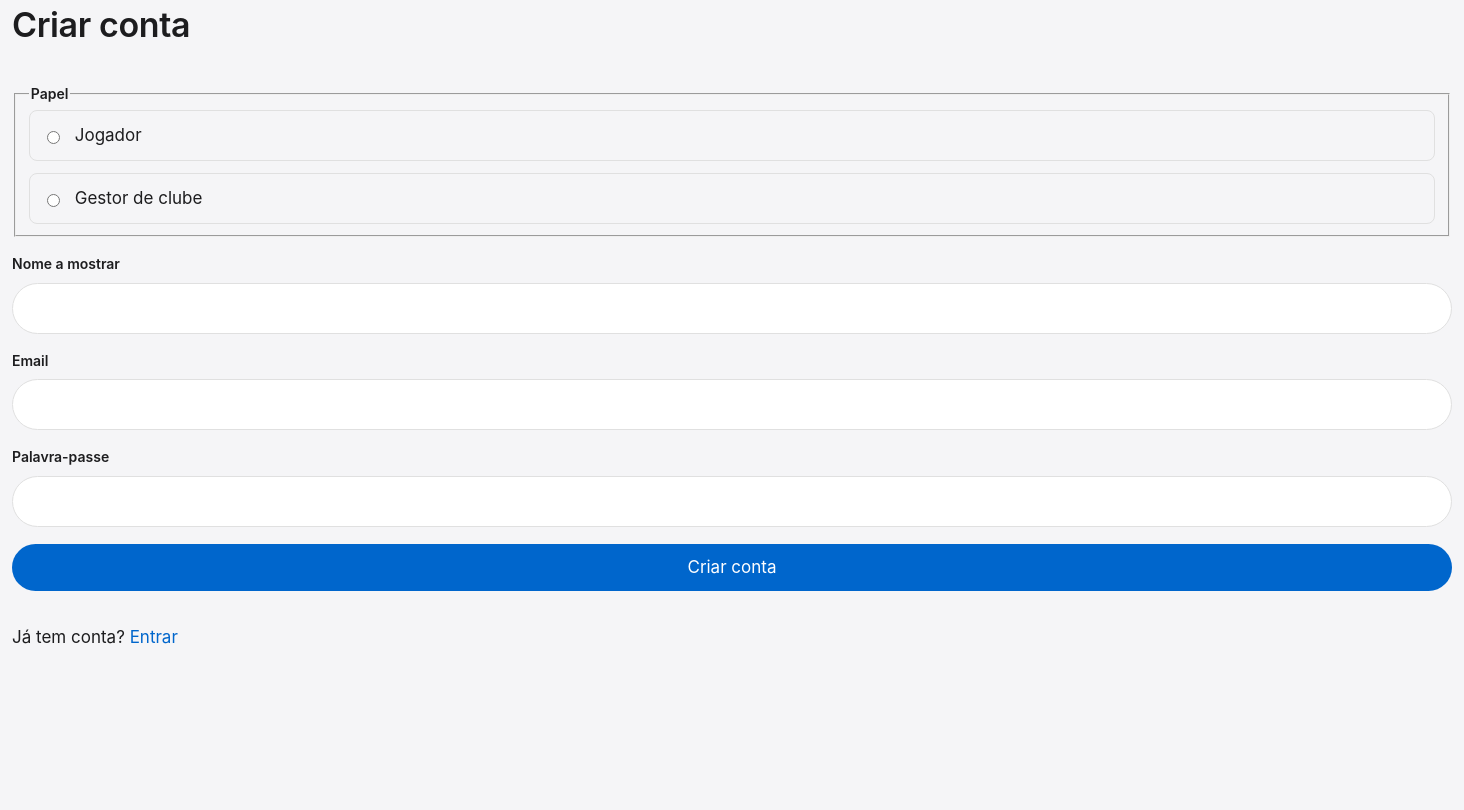
Test: RegisterForm › rejects submission without role selected
Type "Ana" into the field labelled "Nome a mostrar" at (732, 308), box [12, 283, 1452, 334]
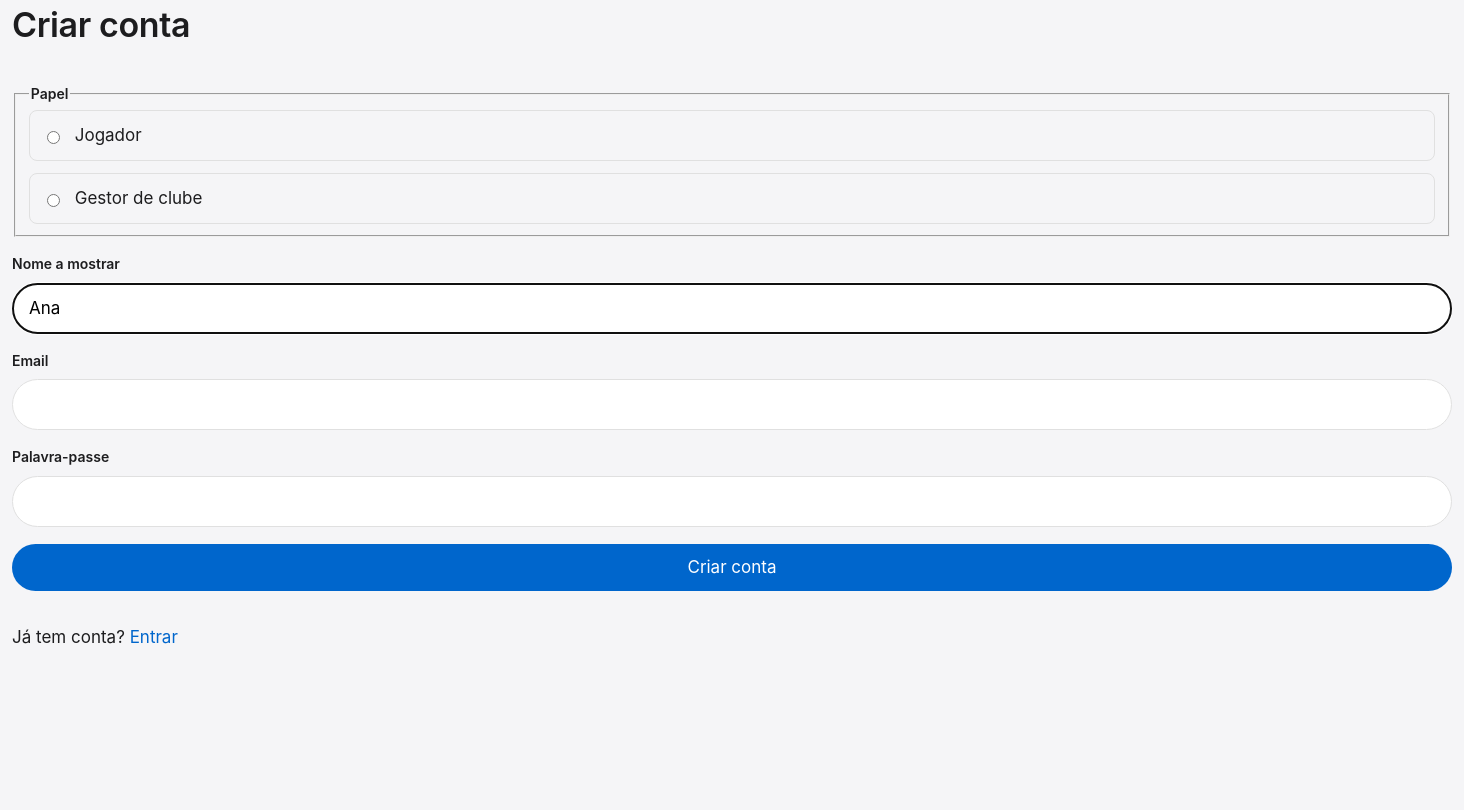
Type "ana@test.com" into the field labelled "Email" at (732, 405), box [12, 379, 1452, 430]
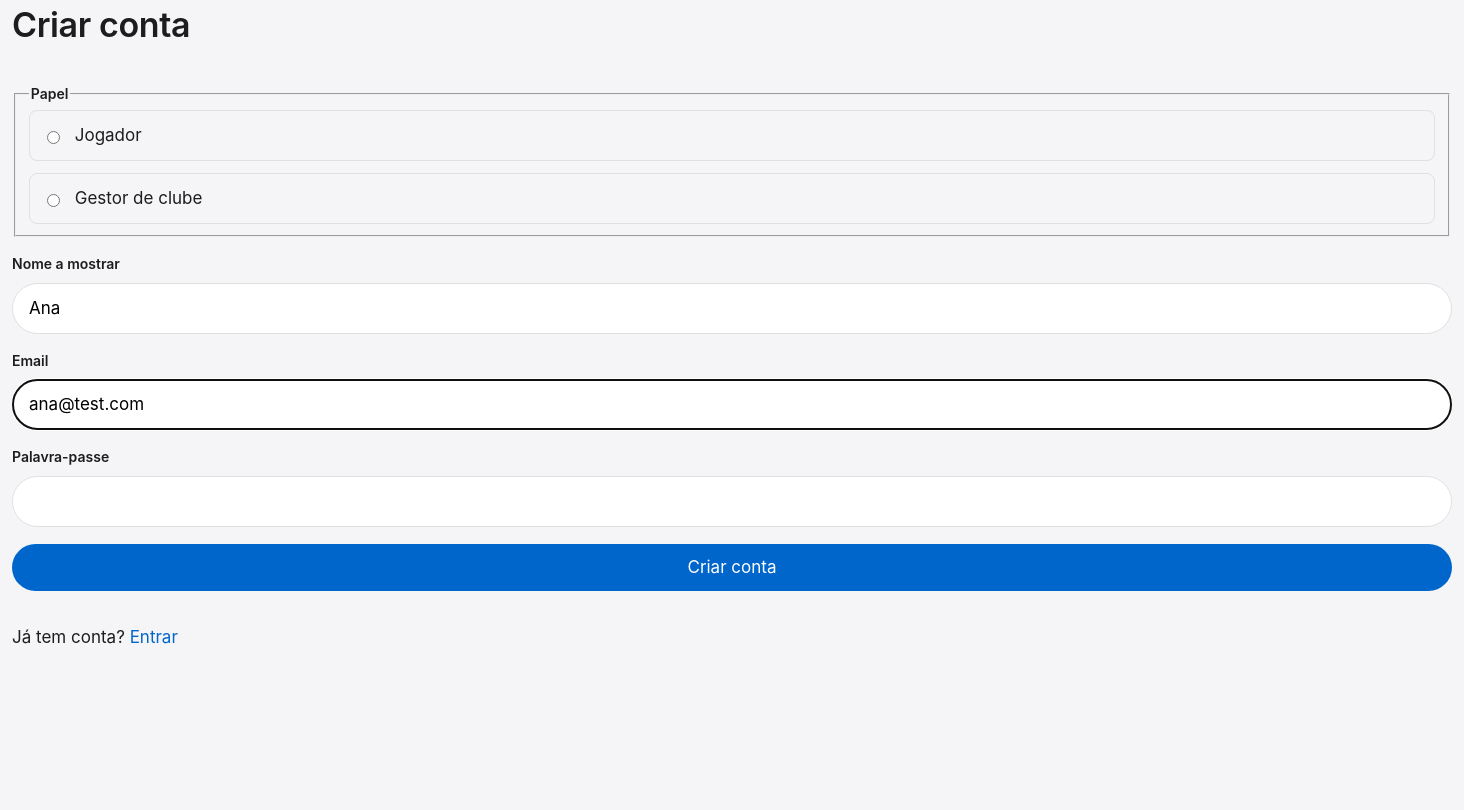
Type "password12" into the password field labelled "Palavra-passe" at (732, 501), box [12, 476, 1452, 527]
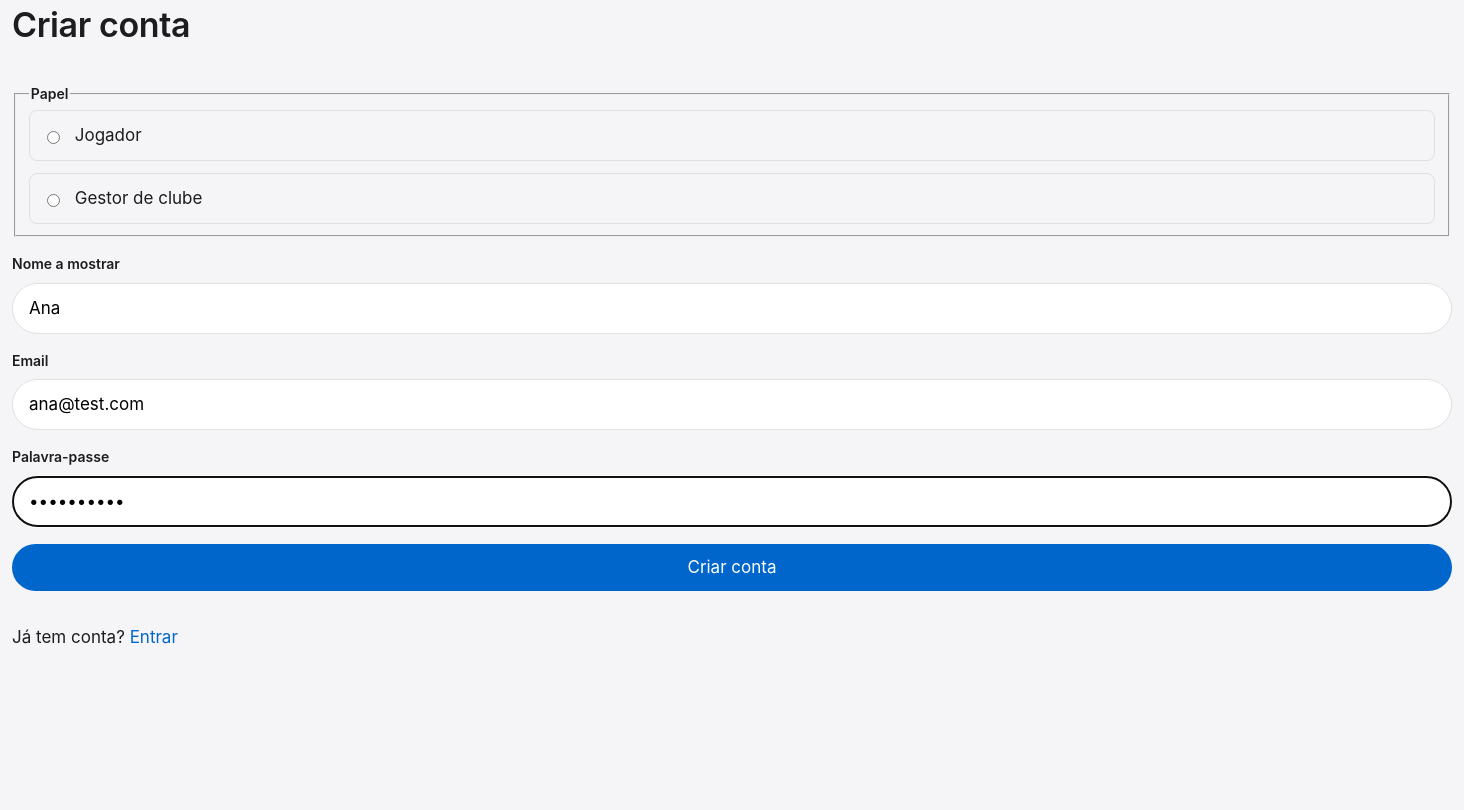
Click the button "Criar conta" at (732, 567), box [12, 544, 1452, 591]
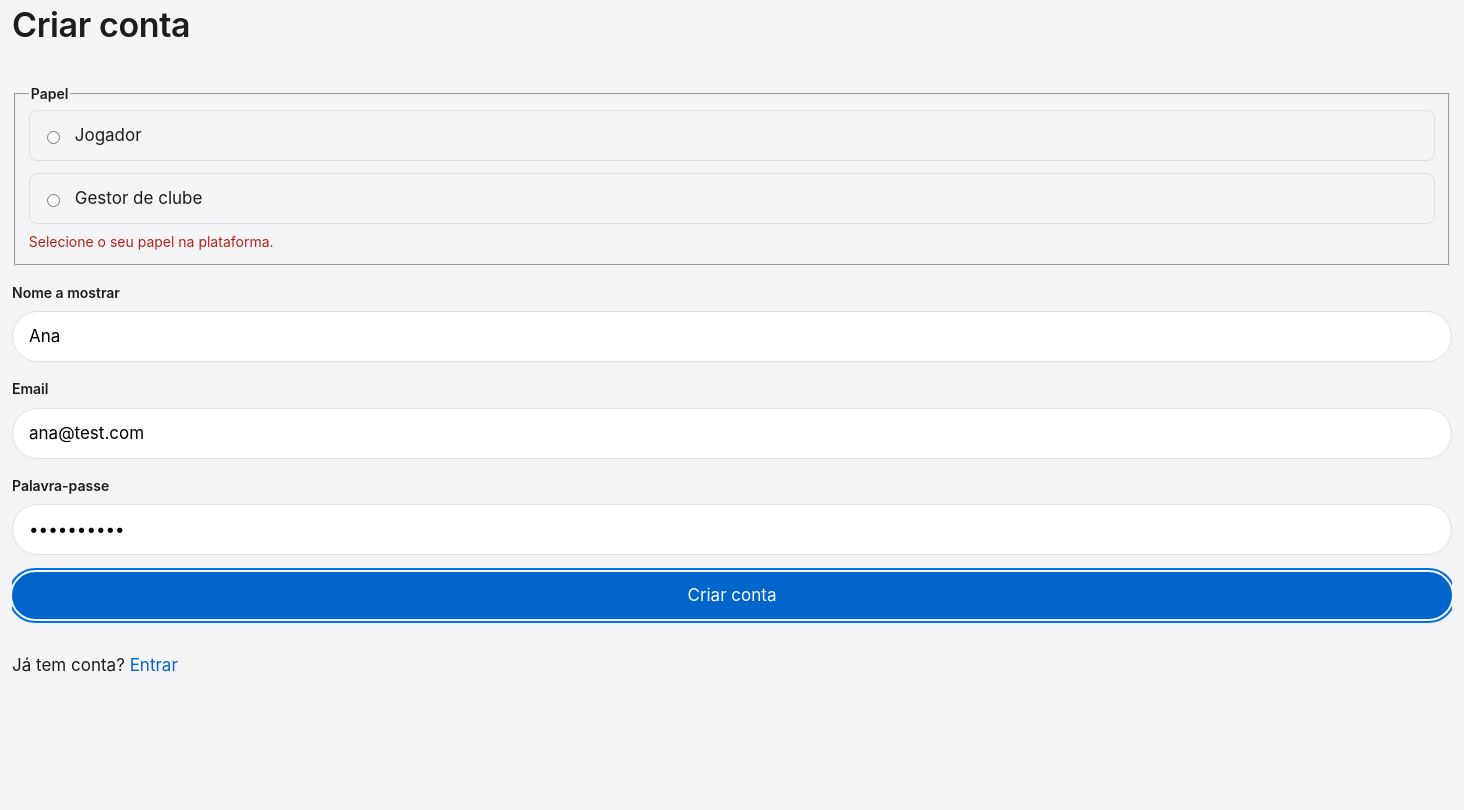
Check: the message shows "Selecione o seu papel", box [29, 234, 274, 250]
